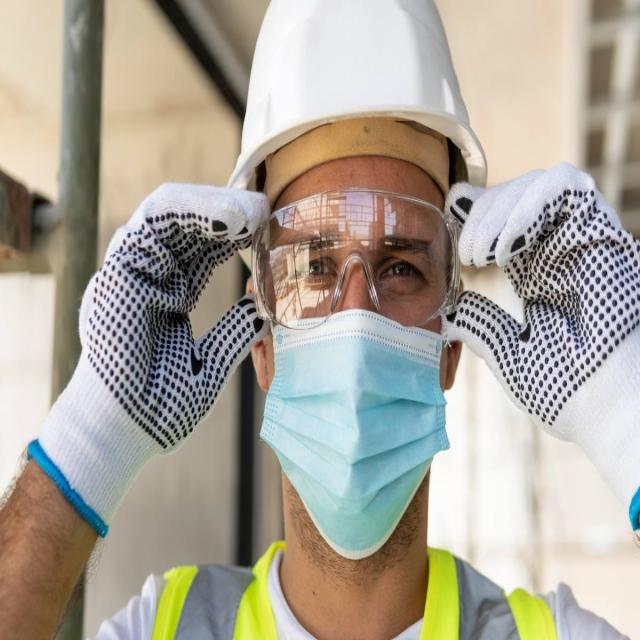glasses: (247, 185, 464, 332)
